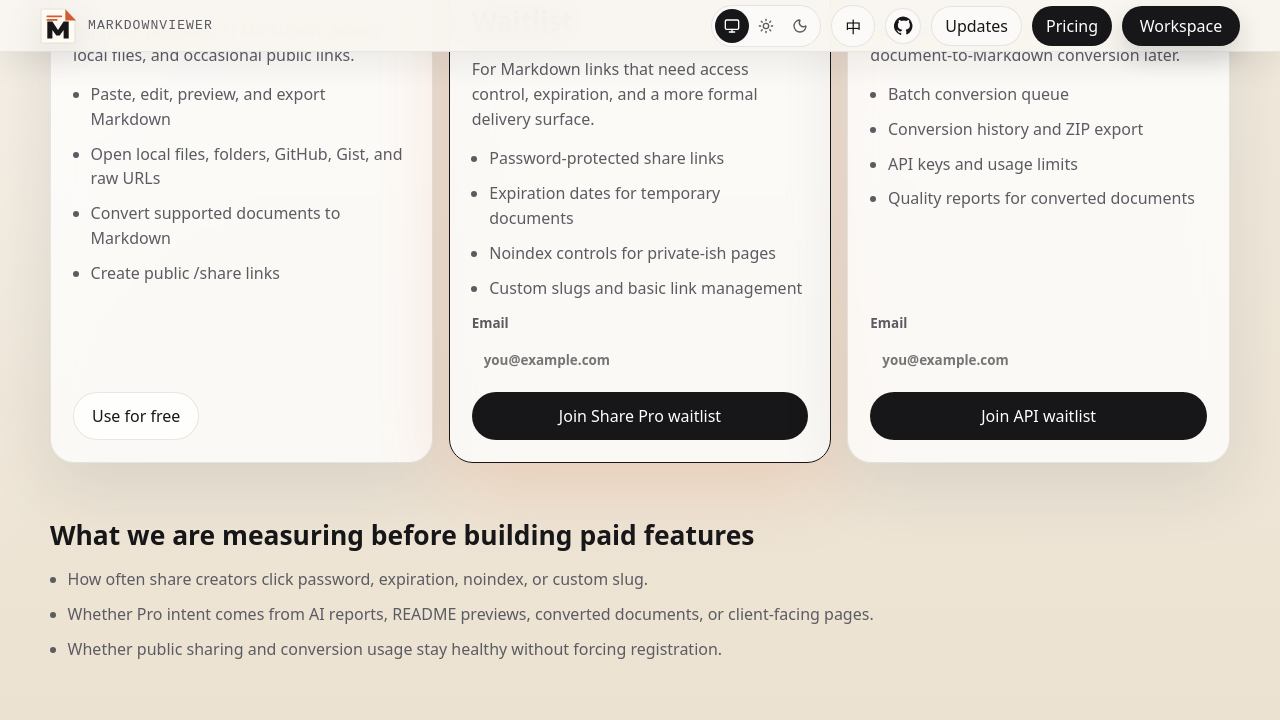
it: pricing page › submits the Share Pro waitlist form without leaving the page
(page scrolled)
Type "reader@example.com" into the field labelled "Email" below "Custom slugs and basic link management". click: (640, 360)
box: top-left (472, 338), bottom-right (808, 382)
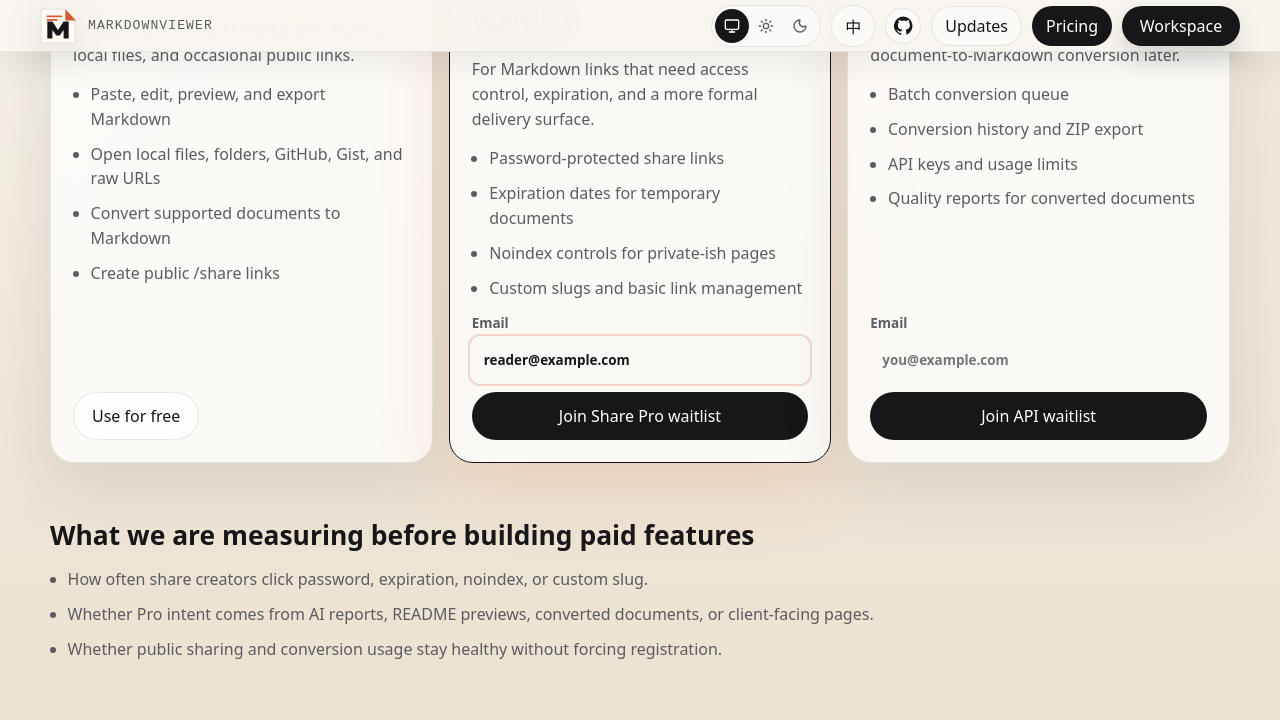
Click the button "Join Share Pro waitlist". click: (640, 416)
box: top-left (472, 392), bottom-right (808, 440)
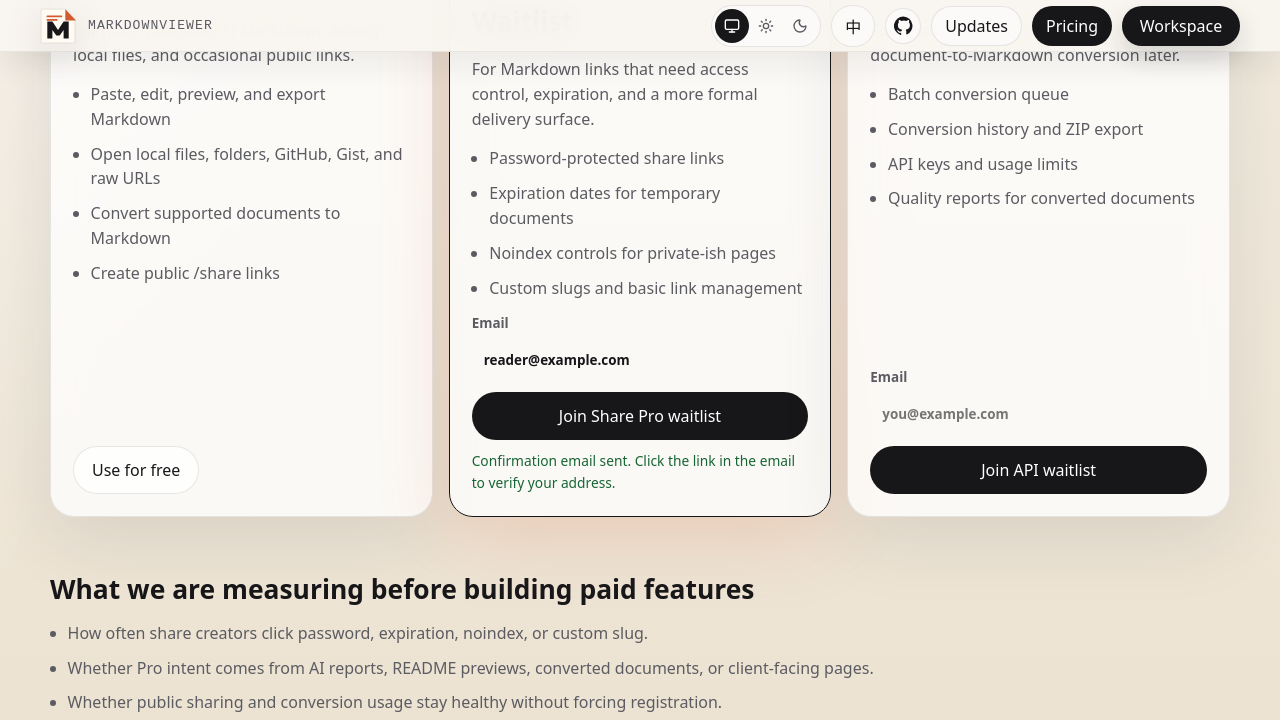
Now the text "Confirmation email sent. Click the link in the email to verify your address." is shown, box top-left (472, 450), bottom-right (808, 494)
